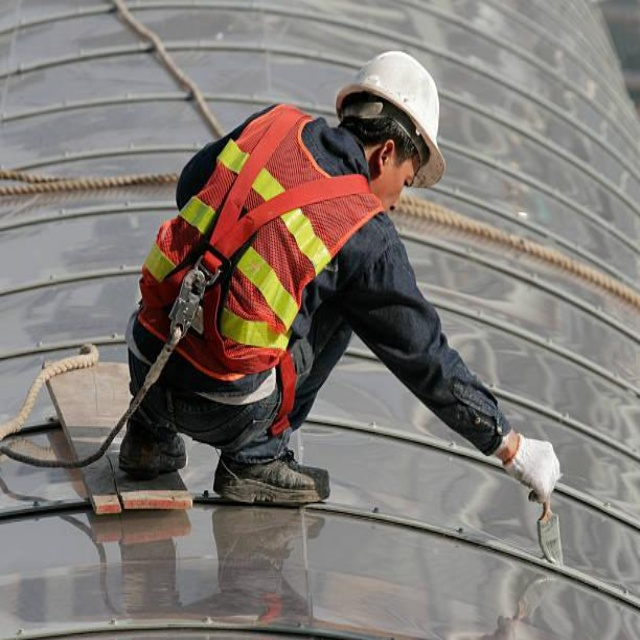Arnes_seguridad: (136, 104, 373, 453)
